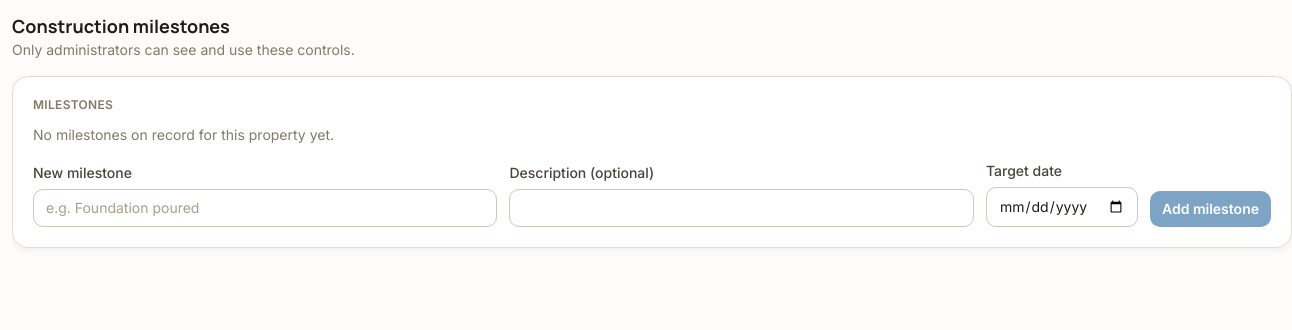
Test: MilestoneAdminPanel › surfaces a rejected action as an inline alert instead of an unhandled rejection
The width and height of the screenshot is (1292, 330).
Type "X" into the field labelled "New milestone". click: (265, 208)
box: x1=33 y1=189 x2=498 y2=227
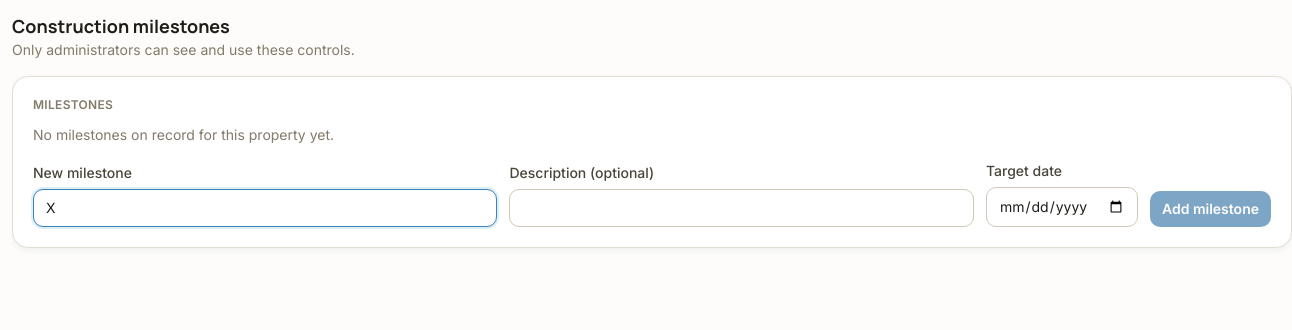
Type "2026-11-01" into the date field labelled "Target date". click: (1062, 207)
box: x1=986 y1=187 x2=1138 y2=227
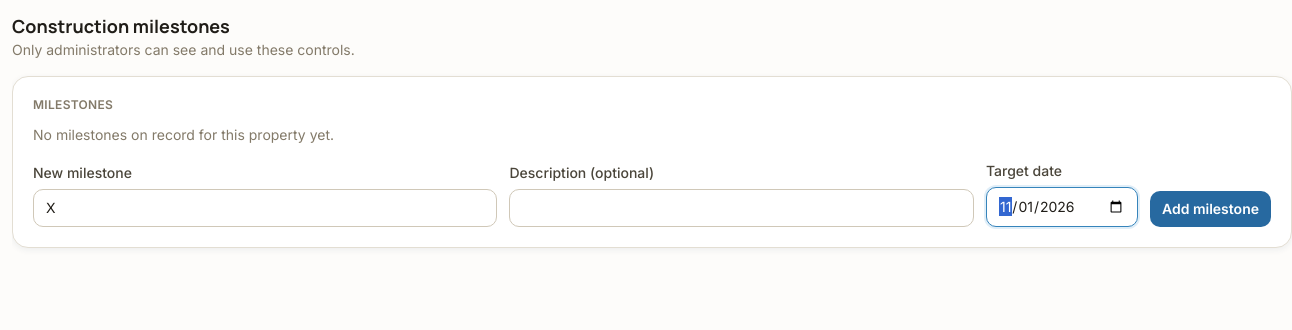
Click the button "Add milestone". click: (1210, 209)
box: x1=1150 y1=191 x2=1271 y2=227
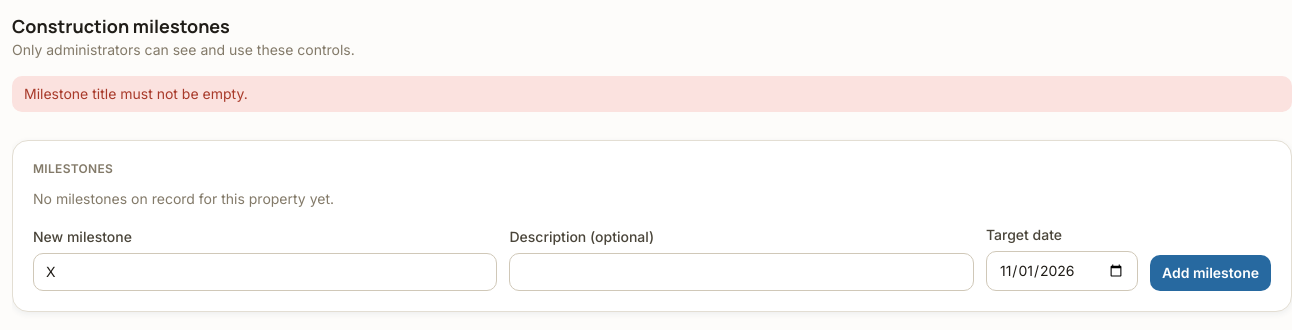
Result: the message reads "Milestone title must not be empty." at x1=24 y1=85 x2=248 y2=102
